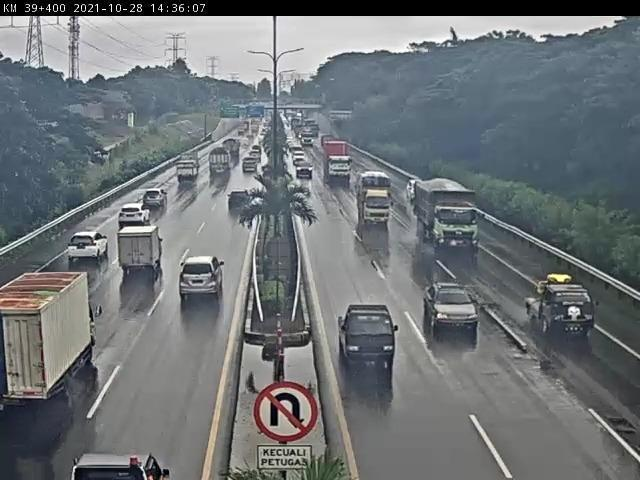car: (337, 308, 405, 359), (70, 451, 177, 480), (176, 254, 226, 313), (57, 234, 97, 281), (136, 189, 164, 214), (226, 194, 248, 225), (114, 209, 141, 230), (298, 166, 317, 180), (292, 153, 307, 166), (249, 159, 258, 177), (406, 178, 412, 196), (251, 152, 259, 162)
truck: (4, 276, 95, 439), (413, 184, 475, 248), (527, 282, 588, 334), (428, 285, 479, 333), (112, 233, 151, 286), (325, 141, 349, 179), (361, 191, 389, 223), (208, 151, 234, 177), (172, 164, 196, 183), (223, 139, 241, 156)
